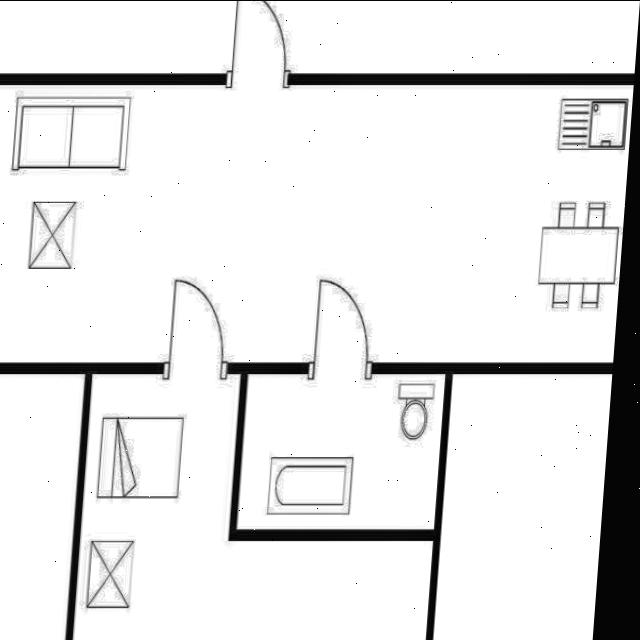room: (0, 86, 634, 359), (72, 373, 433, 640), (238, 374, 444, 527)
